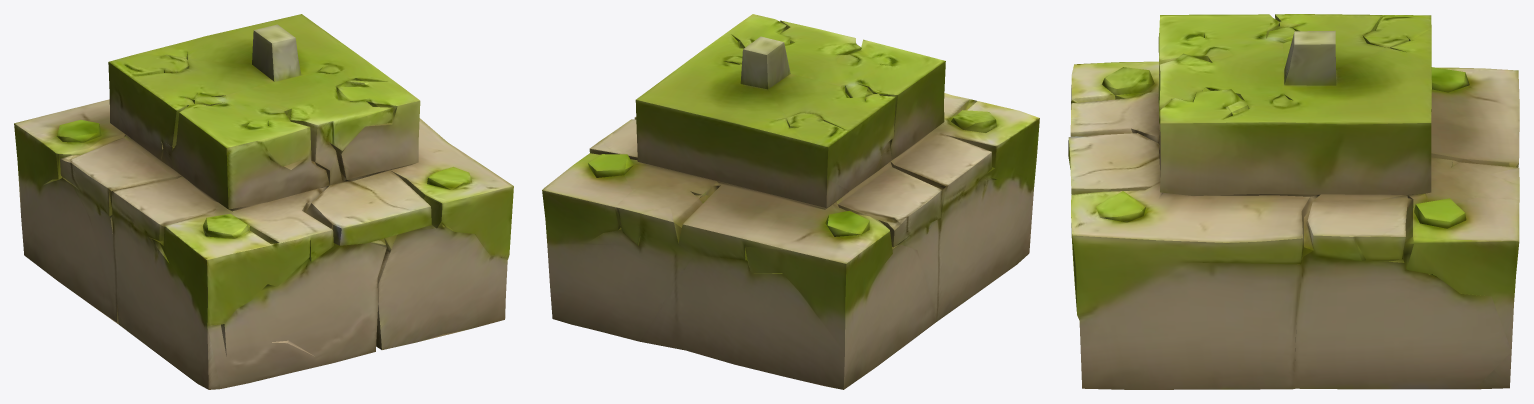
Rendered from m2StoneLever.glb.
The picture shows the model from 3 angles, left to right: view 1: azimuth 30°, elevation 25°; view 2: azimuth 150°, elevation 25°; view 3: azimuth 270°, elevation 25°; orthographic projection. The views are drawn at different scales.
Visible parts, largest first — view 1: model; view 2: model; view 3: model.
Boxes of the visible parts, x1,y1,x2,y2 form: model: (14,14,513,389); model: (542,14,1039,389); model: (1068,14,1519,389).
Bounding box in the file's own units: 1.73 × 1.3 × 1.9.
1 material, 1 textured.
